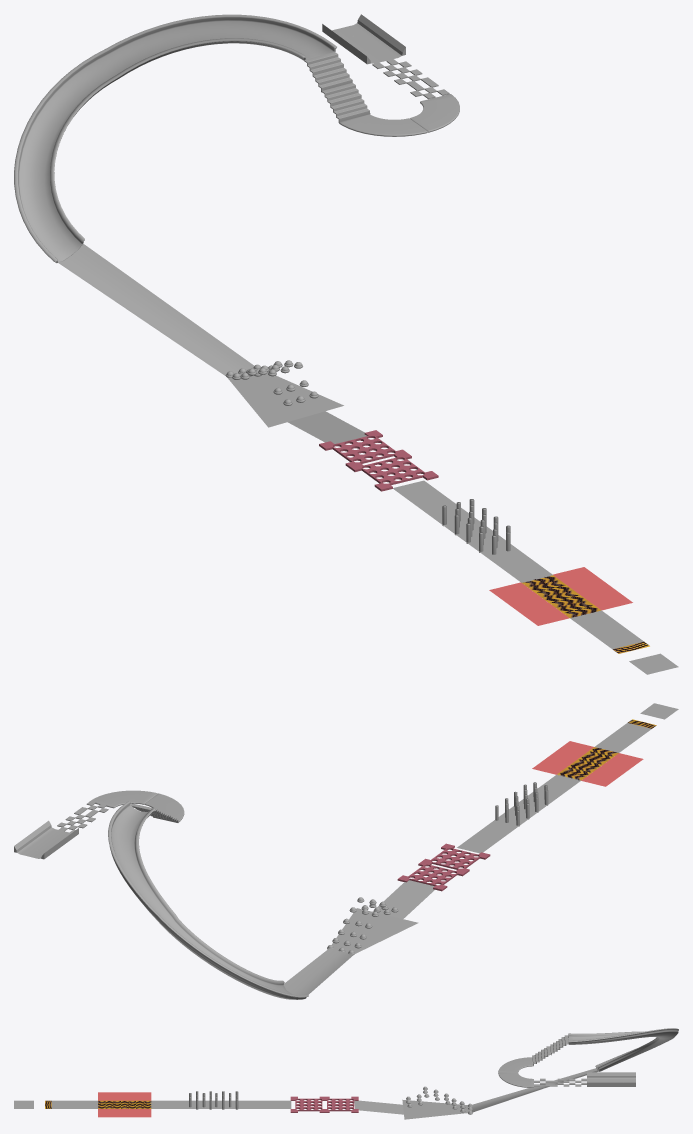
Rendered from level_01.fbx.
3 views of the same model, one above another, from view 1: azimuth 30°, elevation 25°; view 2: azimuth 150°, elevation 25°; view 3: azimuth 270°, elevation 25° (orthographic). The views are drawn at different scales.
Visible parts, largest first — view 1: level_01_pPlane4, pPlane1, level_01_trun, level_01_starting, level_01_pPlane7, level_01_pPlane8, level_01_pPlane9, level_01_pPlane6, level_01_pPlane1_Original, Mega_fist:pPlane1_Original, level_01_pPlane14, level_01_up (+3 smaller); view 2: level_01_pPlane4, pPlane1, level_01_trun, level_01_starting, level_01_pPlane7, level_01_pPlane9, level_01_pPlane8, level_01_pPlane6, level_01_pPlane14, level_01_pPlane1_Original, Mega_fist:pPlane1_Original, level_01_pPlane5 (+1 smaller); view 3: pPlane1, level_01_pPlane4, level_01_trun, level_01_starting, level_01_pPlane7, level_01_pPlane6, level_01_pPlane8, level_01_pPlane14, level_01_pPlane9, level_01_pPlane1_Original, Mega_fist:pPlane1_Original, level_01_pPlane5 (+4 smaller).
Part boxes in pixels (box(x1,y1,x2,y2)): level_01_pPlane4: box(14, 14, 336, 263); pPlane1: box(58, 243, 366, 443); level_01_trun: box(339, 94, 459, 136); level_01_starting: box(322, 14, 405, 64); level_01_pPlane7: box(489, 582, 569, 625); level_01_pPlane8: box(553, 567, 632, 610); level_01_pPlane9: box(570, 610, 649, 653); level_01_pPlane6: box(521, 575, 601, 617); level_01_pPlane1_Original: box(348, 451, 438, 491); Mega_fist:pPlane1_Original: box(319, 430, 406, 468); level_01_pPlane14: box(393, 480, 468, 522); level_01_up: box(321, 83, 370, 122); level_01_pPlane4: box(108, 801, 308, 999); pPlane1: box(283, 880, 434, 995); level_01_trun: box(91, 790, 184, 822); level_01_starting: box(14, 820, 78, 859); level_01_pPlane7: box(581, 753, 643, 786); level_01_pPlane9: box(595, 719, 656, 752); level_01_pPlane8: box(532, 741, 593, 774); level_01_pPlane6: box(557, 747, 618, 780); level_01_pPlane14: box(457, 821, 517, 853); level_01_pPlane1_Original: box(420, 843, 490, 874); Mega_fist:pPlane1_Original: box(397, 862, 464, 891); level_01_pPlane5: box(494, 793, 555, 826); pPlane1: box(354, 1068, 599, 1119); level_01_pPlane4: box(568, 1028, 678, 1071); level_01_trun: box(498, 1057, 533, 1087); level_01_starting: box(587, 1072, 635, 1086); level_01_pPlane7: box(98, 1092, 151, 1100); level_01_pPlane6: box(98, 1100, 151, 1108); level_01_pPlane8: box(98, 1109, 151, 1117); level_01_pPlane14: box(238, 1100, 291, 1108); level_01_pPlane9: box(45, 1100, 98, 1108); level_01_pPlane1_Original: box(290, 1096, 326, 1112); Mega_fist:pPlane1_Original: box(322, 1096, 358, 1112); level_01_pPlane5: box(186, 1100, 239, 1108).
Bounding box in the file's own units: 492 × 293 × 1496.
4 materials, 1 textured.
